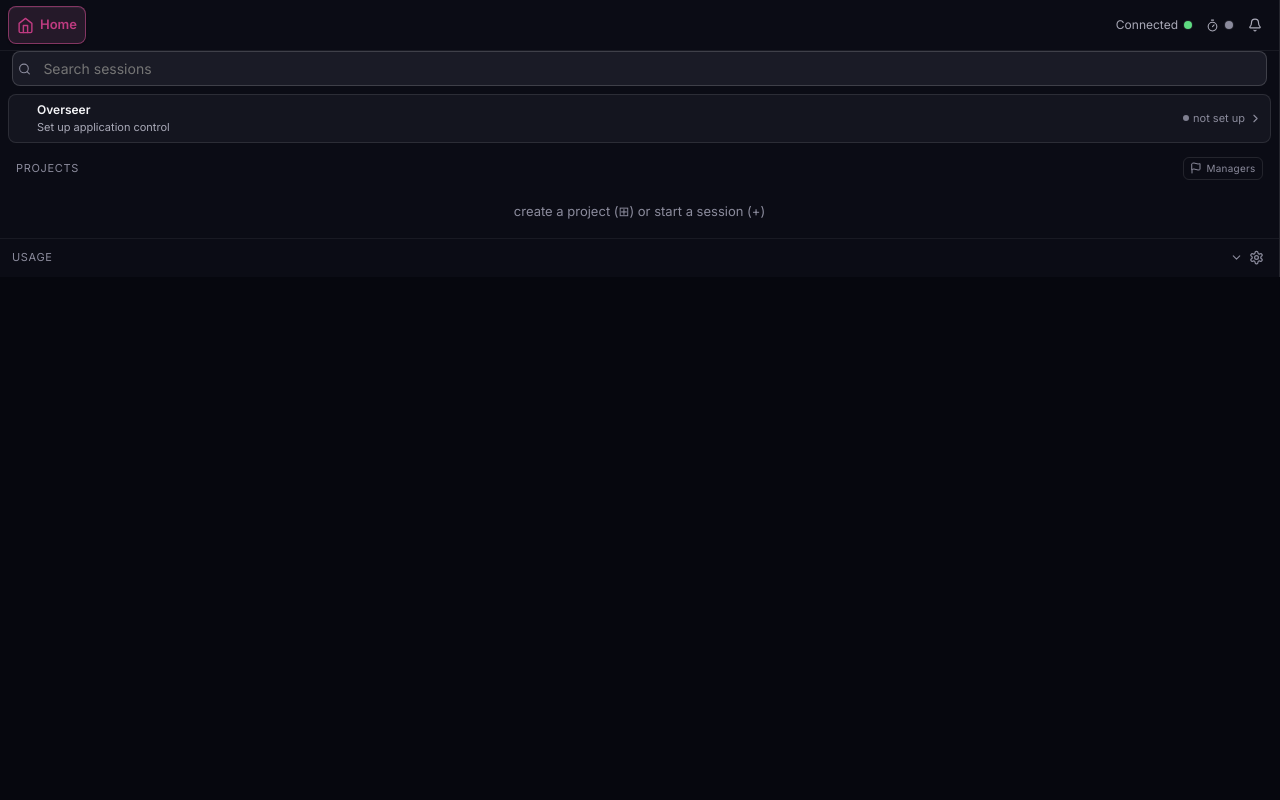
Test case: compact system status indicators › presents ordinary snapshot lag as deferred maintenance rather than unavailable status
Click the button named "Journal maintenance: waiting for snapshot".
click(1219, 25)  # box [1203,11,1235,39]
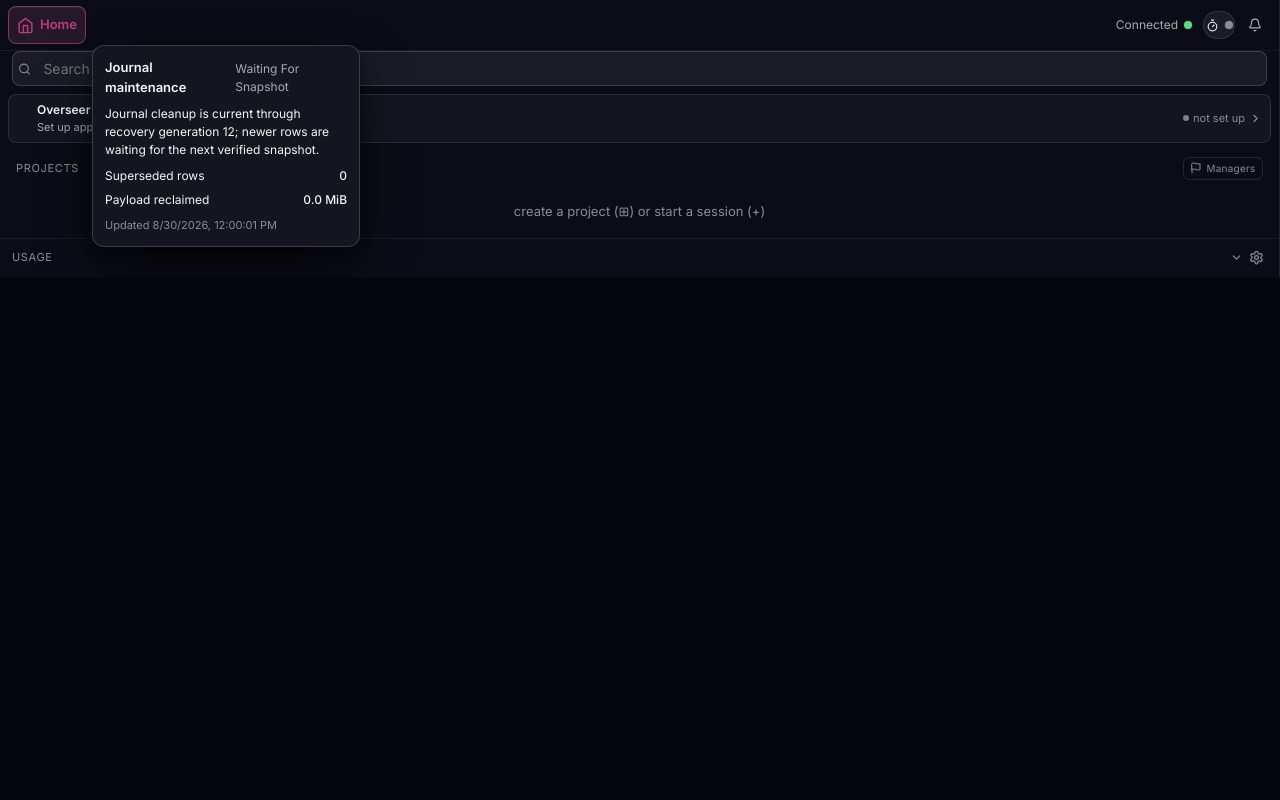
Expected: the dialog "Journal maintenance" shows "current through recovery generation 12", [105,106,329,157]
